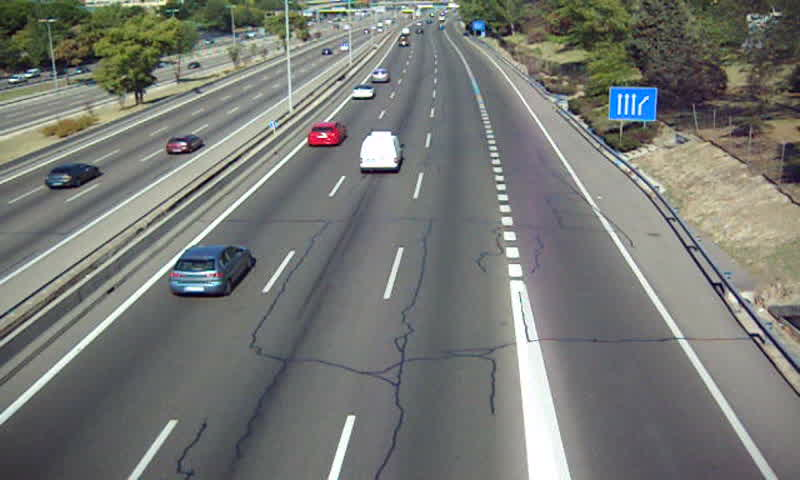car: (168, 246, 251, 297), (308, 122, 346, 146), (350, 85, 375, 99), (370, 68, 389, 84)
van: (359, 131, 403, 171)
